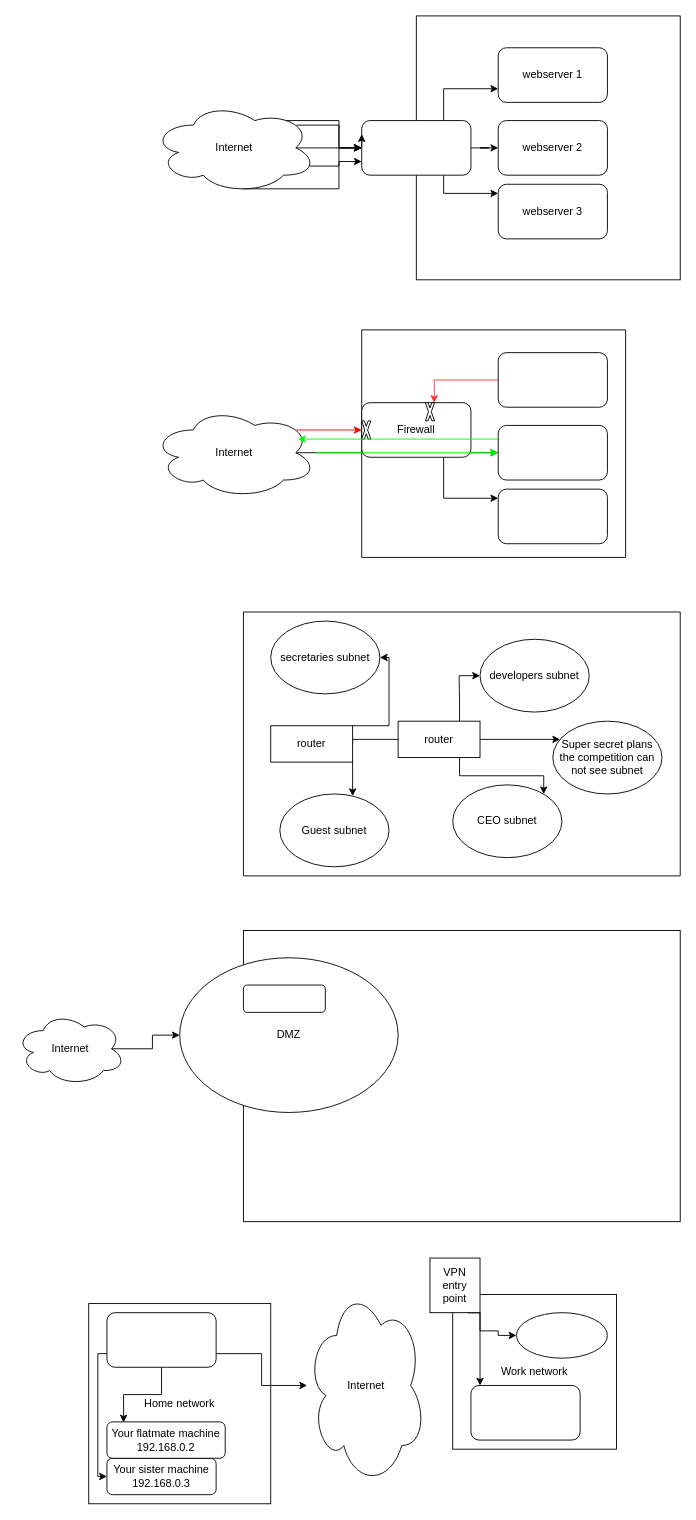
This 696x1520 diagram has some shape labels left out. Here are the shapes that lost their labels. From the top down, the centre of each, then its label:
At point 416,147: "Load balancer".
At point 552,379: "subnet 1".
At point 552,452: "machine 1".
At point 552,516: "subnet 2".
At point 284,998: "webserver".
At point 161,1339: "Your machine 192.168.0.4".
At point 561,1335: "User subnet".
At point 525,1412: "work machines web application: 10.0.0.25".
